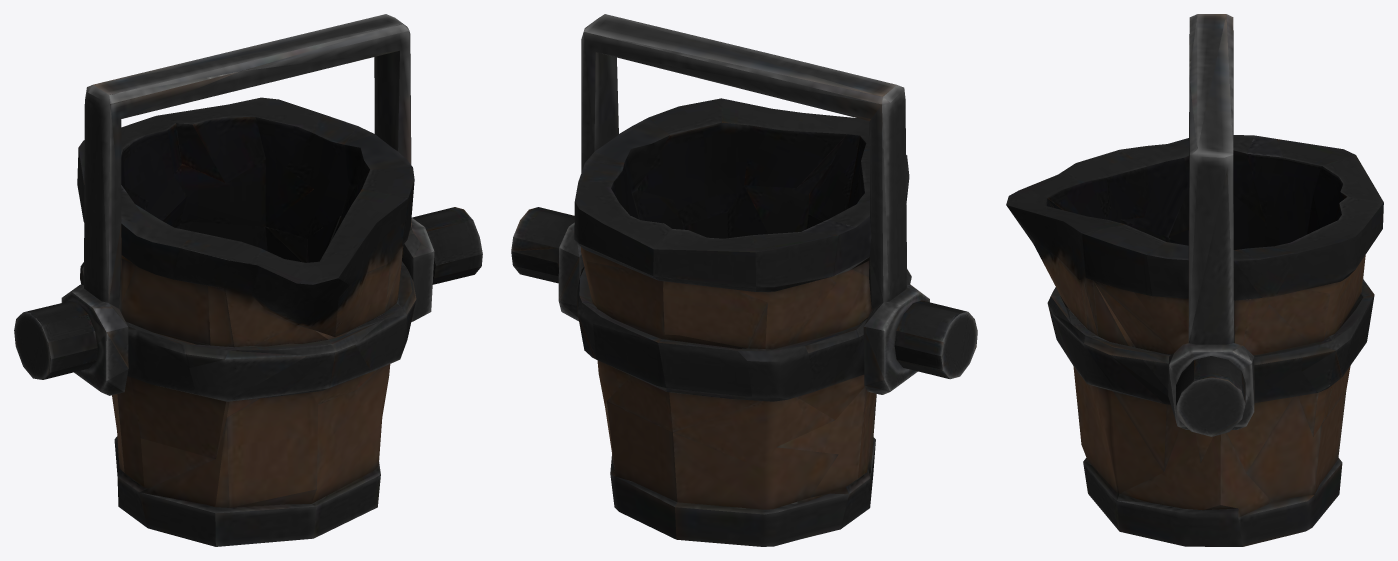
Rendered from crucible.glb.
The picture shows the model from 3 angles, left to right: view 1: azimuth 30°, elevation 25°; view 2: azimuth 150°, elevation 25°; view 3: azimuth 270°, elevation 25°; orthographic projection. The views are drawn at different scales.
Parts seen in each view (by area): view 1: Mesh_0; view 2: Mesh_0; view 3: Mesh_0.
Boxes of the visible parts, x1,y1,x2,y2 form: Mesh_0: (14,14,482,546); Mesh_0: (511,14,977,546); Mesh_0: (1006,14,1383,546).
Bounding box in the file's own units: 1.9 × 1.84 × 1.52.
Materials: 1 (1 with a texture image).
